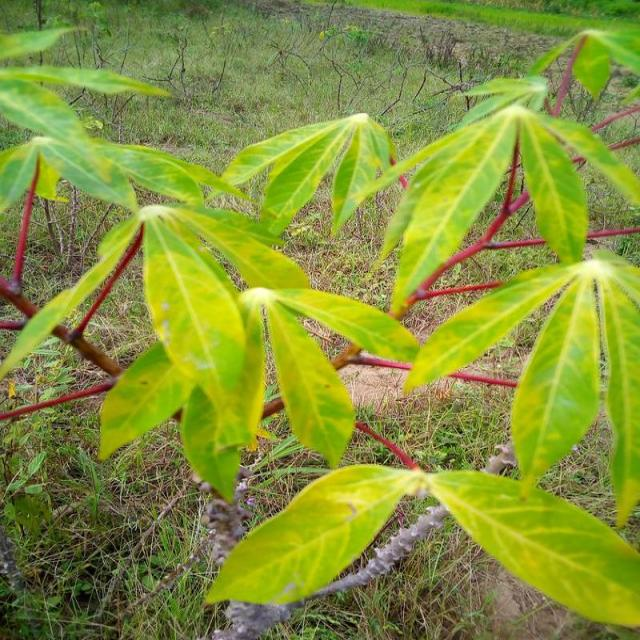cassava leaf: (1, 21, 638, 632), (426, 467, 640, 628), (204, 462, 422, 607)
